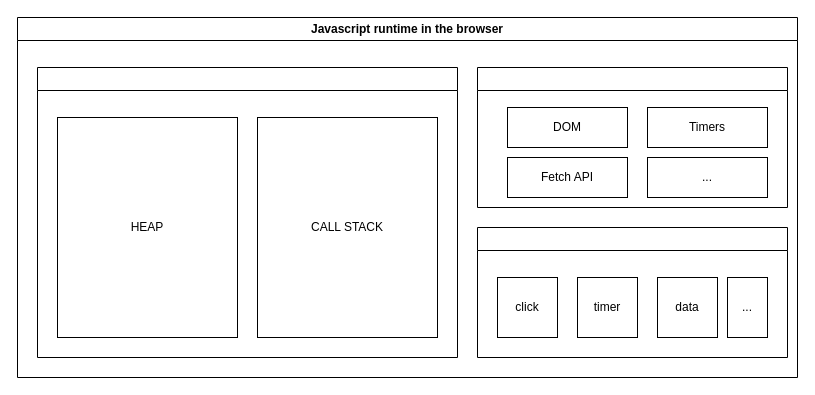
This 815x395 diagram has some shape labels left out. The box of each missing label's shape, as (x1, y1, x2, y2) in pixels:
Callback queue: (476, 226, 788, 358)
Javascript Engine: (36, 66, 458, 358)
WEB API's: (476, 66, 788, 208)
